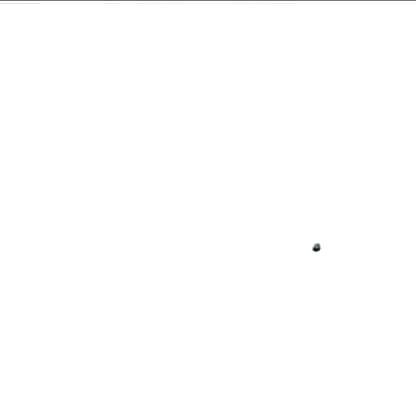golfball: (309, 236, 319, 247)
